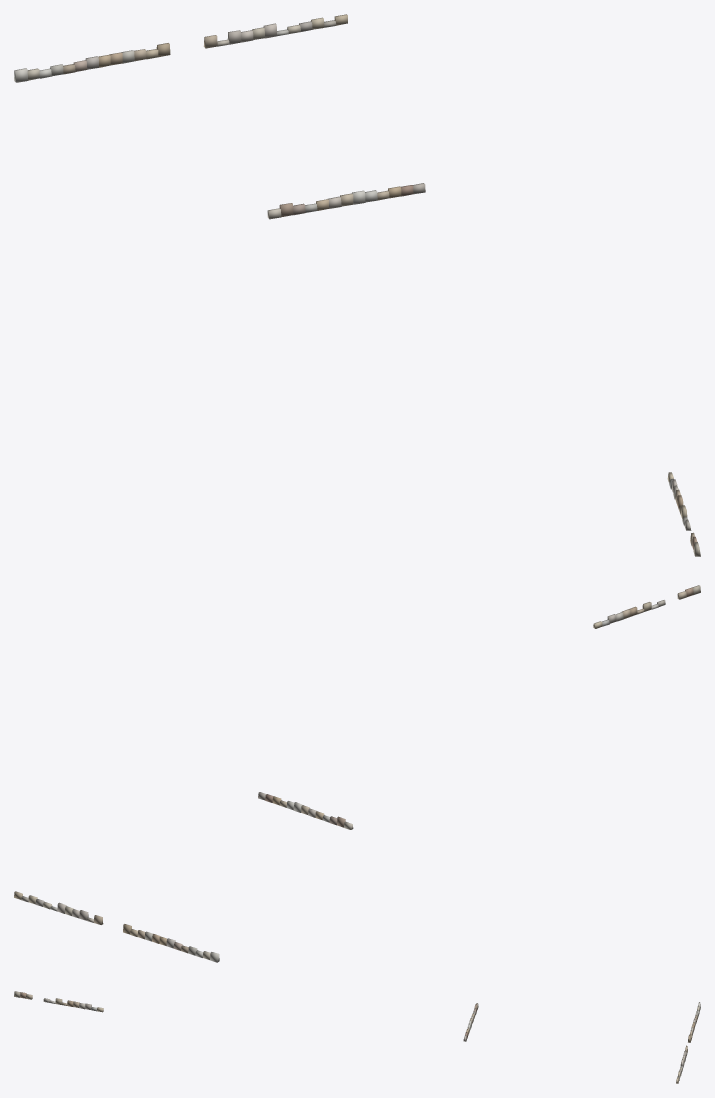
The model's file is farm_5_19_far.glb.
The picture shows the model from 3 angles, top to bottom: view 1: azimuth 30°, elevation 25°; view 2: azimuth 150°, elevation 25°; view 3: azimuth 270°, elevation 25°; orthographic projection. The views are drawn at different scales.
Visible parts, largest first — view 1: geometry_0; view 2: geometry_0; view 3: geometry_0.
Part boxes in pixels (x1=…): geometry_0: x1=14, y1=14, x2=700, y2=556; geometry_0: x1=14, y1=585, x2=700, y2=962; geometry_0: x1=14, y1=991, x2=700, y2=1083.
Bounding box in the file's own units: 43.97 × 4.5 × 167.
